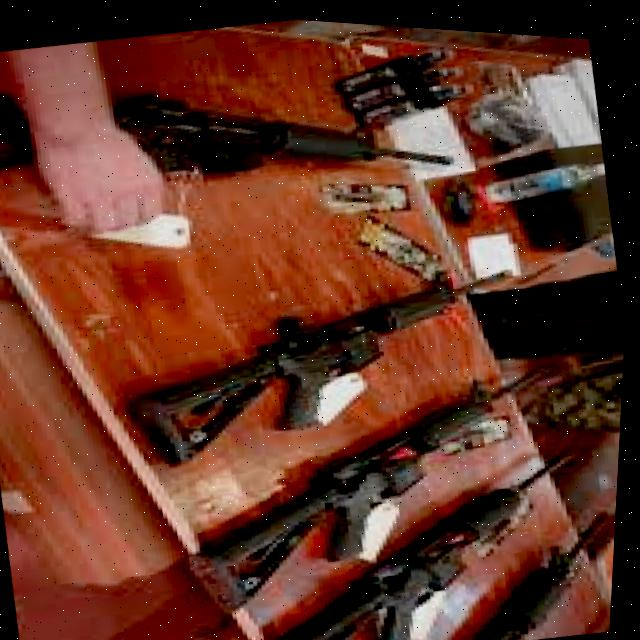firearm: (157, 333, 596, 635), (102, 231, 546, 493), (0, 0, 464, 244), (229, 419, 613, 640), (409, 486, 621, 640)
